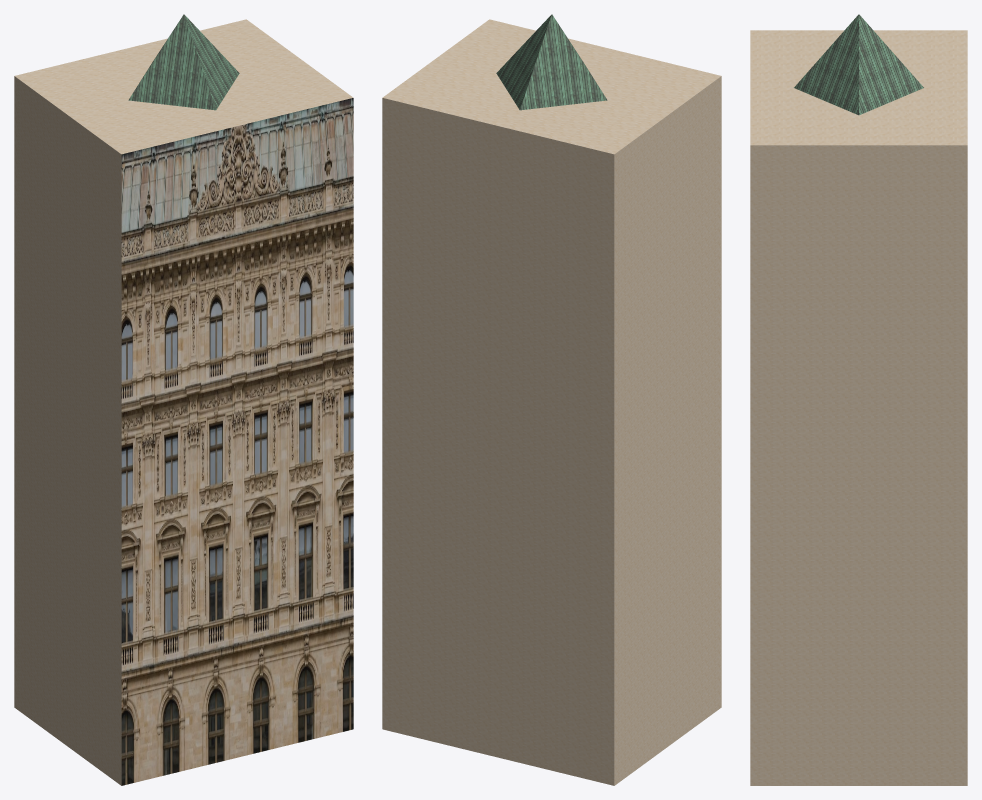
Rendered from ledger-tower_lod0.gltf.
3 views of the same model, side by side, from view 1: azimuth 30°, elevation 25°; view 2: azimuth 150°, elevation 25°; view 3: azimuth 270°, elevation 25° (orthographic).
Parts seen in each view (by area): view 1: ledger-tower_front, ledger-tower_tier0, ledger-tower_crown; view 2: ledger-tower_tier0, ledger-tower_crown; view 3: ledger-tower_tier0, ledger-tower_crown.
Part boxes in pixels (x1,y1,x2,y2): ledger-tower_front: (121,98,353,785); ledger-tower_tier0: (14,19,353,785); ledger-tower_crown: (128,14,239,110); ledger-tower_tier0: (382,19,721,785); ledger-tower_crown: (496,14,607,110); ledger-tower_tier0: (750,30,967,785); ledger-tower_crown: (794,14,923,115).
Size of the model in its own units: 50 by 145 by 40.
